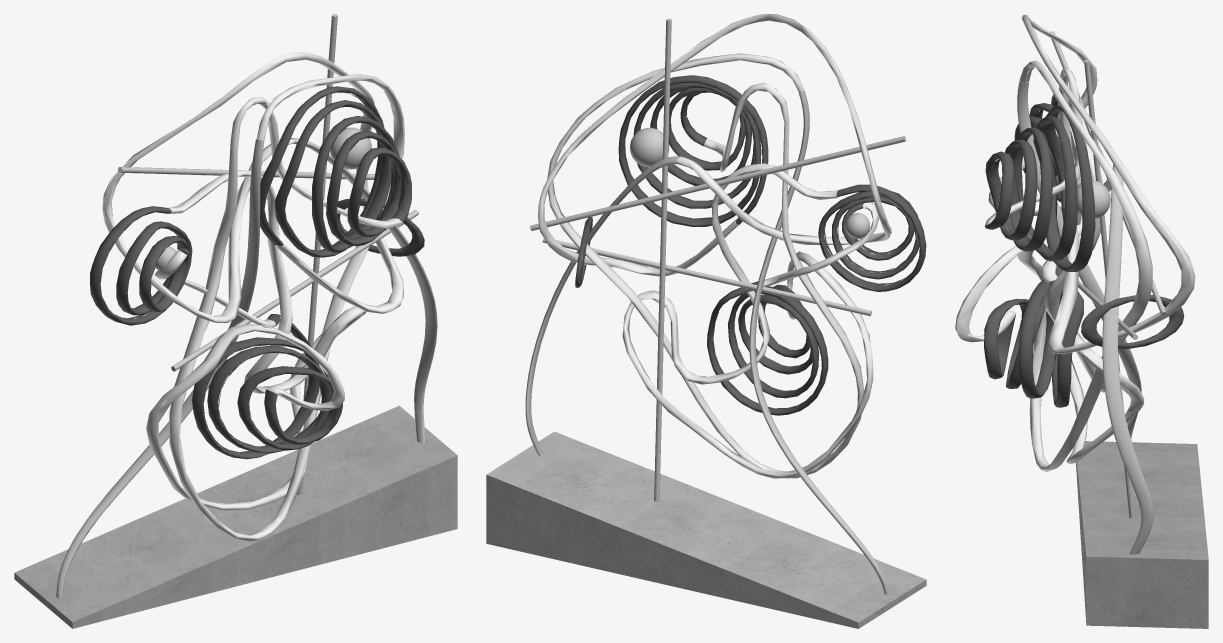
File: SCREAMER-OG-GRY-v53.glb
The picture shows the model from 3 angles, left to right: view 1: azimuth 30°, elevation 25°; view 2: azimuth 150°, elevation 25°; view 3: azimuth 270°, elevation 25°; orthographic projection. The views are drawn at different scales.
Visible parts, largest first — view 1: Layer 05, GOVDE, HOPARLER.001, AYAK.001; view 2: Layer 05, GOVDE, HOPARLER.001, AYAK.001; view 3: Layer 05, HOPARLER.001, GOVDE, AYAK.001.
Part boxes in pixels (x1,y1,x2,y2): Layer 05: [14, 405, 457, 628]; GOVDE: [102, 52, 404, 541]; HOPARLER.001: [90, 86, 424, 459]; AYAK.001: [56, 14, 437, 598]; Layer 05: [486, 431, 926, 628]; GOVDE: [538, 14, 891, 478]; HOPARLER.001: [575, 75, 926, 415]; AYAK.001: [525, 18, 906, 594]; Layer 05: [1076, 441, 1208, 628]; HOPARLER.001: [984, 94, 1184, 407]; GOVDE: [955, 14, 1195, 471]; AYAK.001: [1017, 31, 1166, 554].
Bounding box in the file's own units: 0.776 × 1.02 × 0.457.
4 materials, 1 textured.
